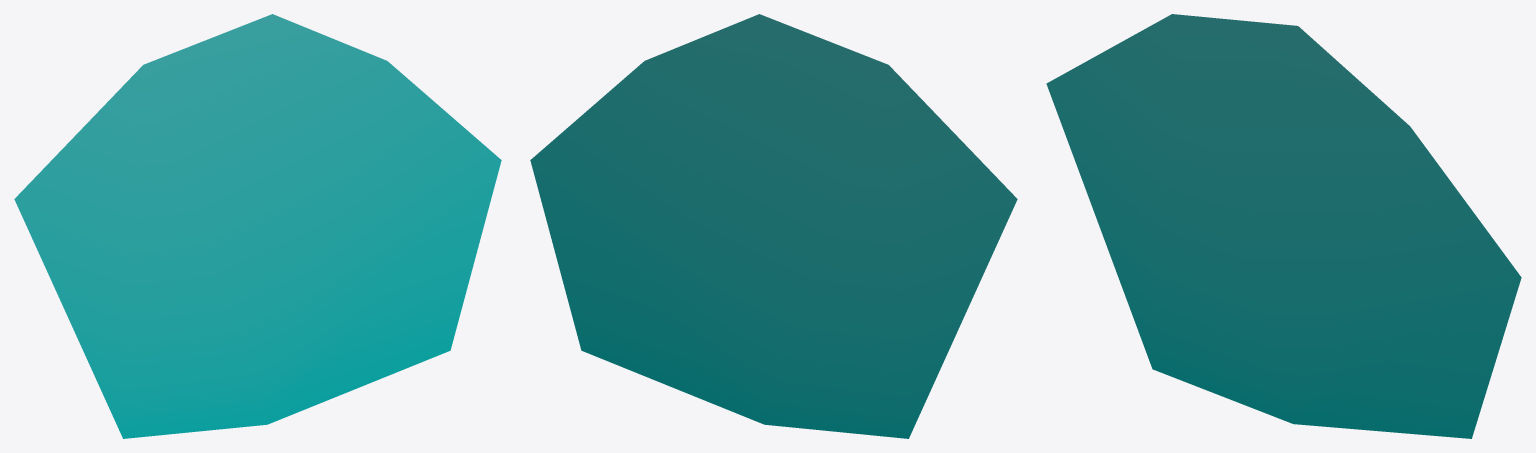
The model's file is Field_Poppy_vmcobd0ja_Mid_vmcobd0ja_VarF_LOD3.fbx.
3 renders of one model, left to right at view 1: azimuth 30°, elevation 25°; view 2: azimuth 150°, elevation 25°; view 3: azimuth 330°, elevation 25°, orthographic. The views are drawn at different scales.
Visible parts, largest first — view 1: _crid_VarF_LOD4; view 2: _crid_VarF_LOD4; view 3: _crid_VarF_LOD4.
Boxes of the visible parts, bbox=[...] form: _crid_VarF_LOD4: bbox=[14, 14, 501, 438]; _crid_VarF_LOD4: bbox=[530, 14, 1017, 438]; _crid_VarF_LOD4: bbox=[1046, 14, 1521, 438].
Size of the model in its own units: 62.71 by 50.35 by 0.
